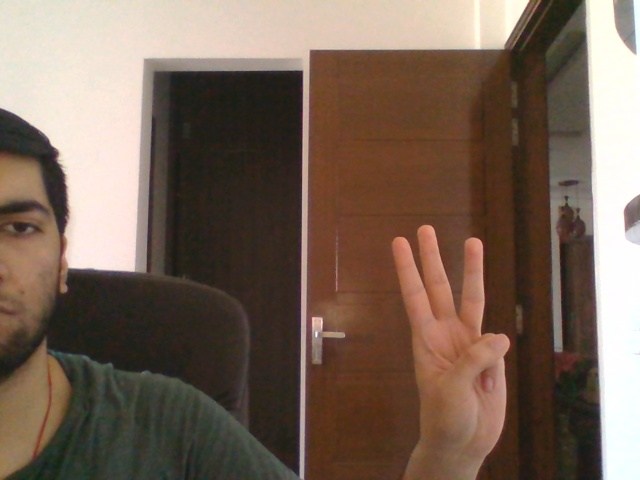LetterW: (389, 222, 511, 460)
